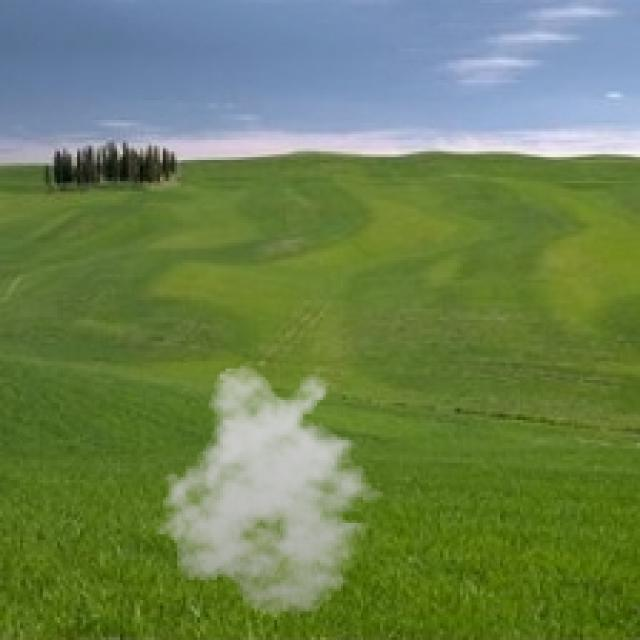Smoke: (148, 362, 394, 618)
